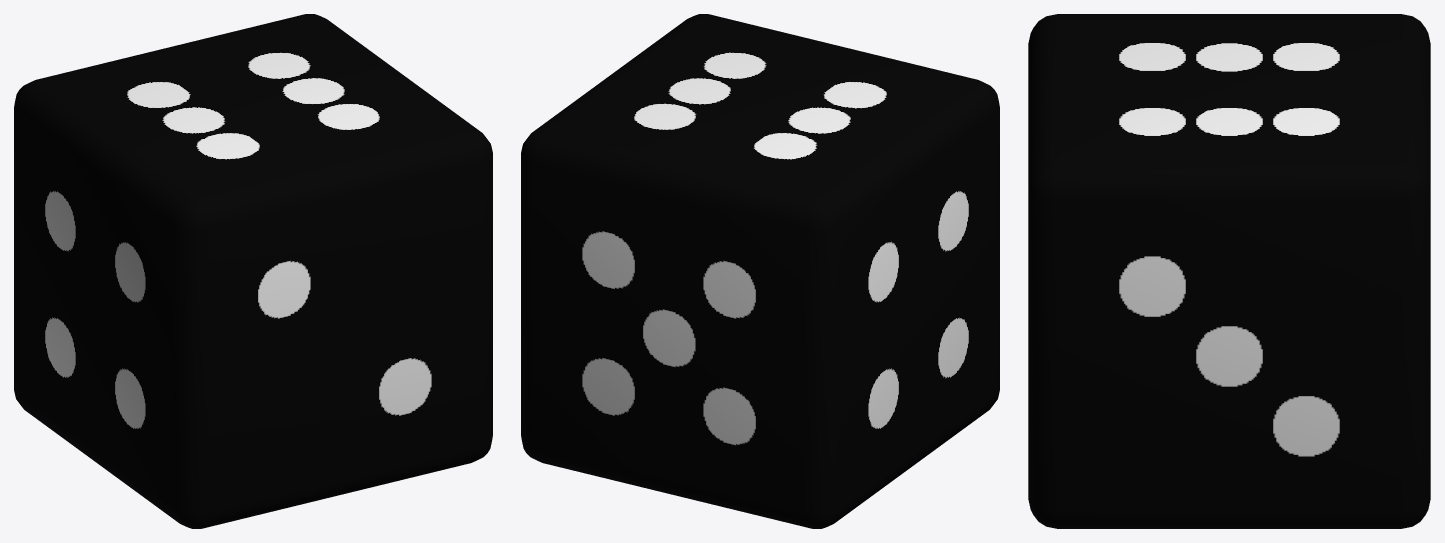
The model's file is Dice.glb.
The picture shows the model from 3 angles, left to right: view 1: azimuth 30°, elevation 25°; view 2: azimuth 150°, elevation 25°; view 3: azimuth 270°, elevation 25°; orthographic projection. The views are drawn at different scales.
Visible parts, largest first — view 1: Cube; view 2: Cube; view 3: Cube.
Boxes of the visible parts, x1,y1,x2,y2 form: Cube: (14, 14, 492, 528); Cube: (521, 14, 999, 528); Cube: (1028, 14, 1430, 528).
Size of the model in its own units: 2 by 2 by 2.
Materials: 1 (1 with a texture image).
